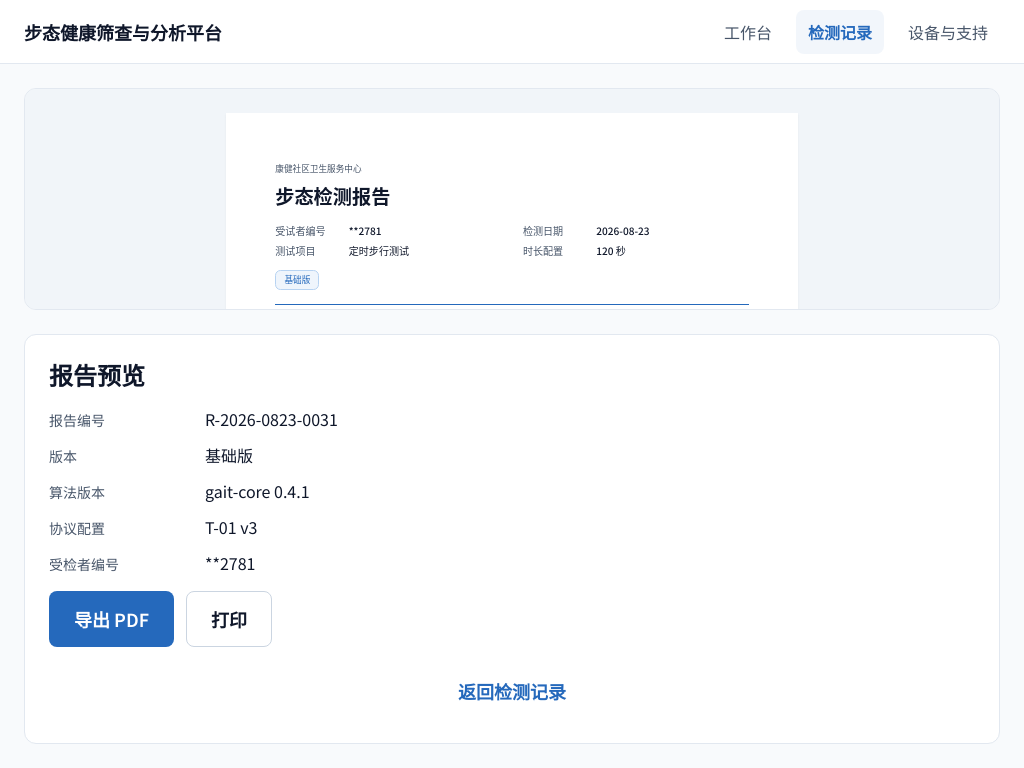
Test: with the shell bridge › says the export failed, with the reason
This screenshot has width=1024, height=768.
Click the button "导出 PDF" at (112, 619), box [49,591,174,647]
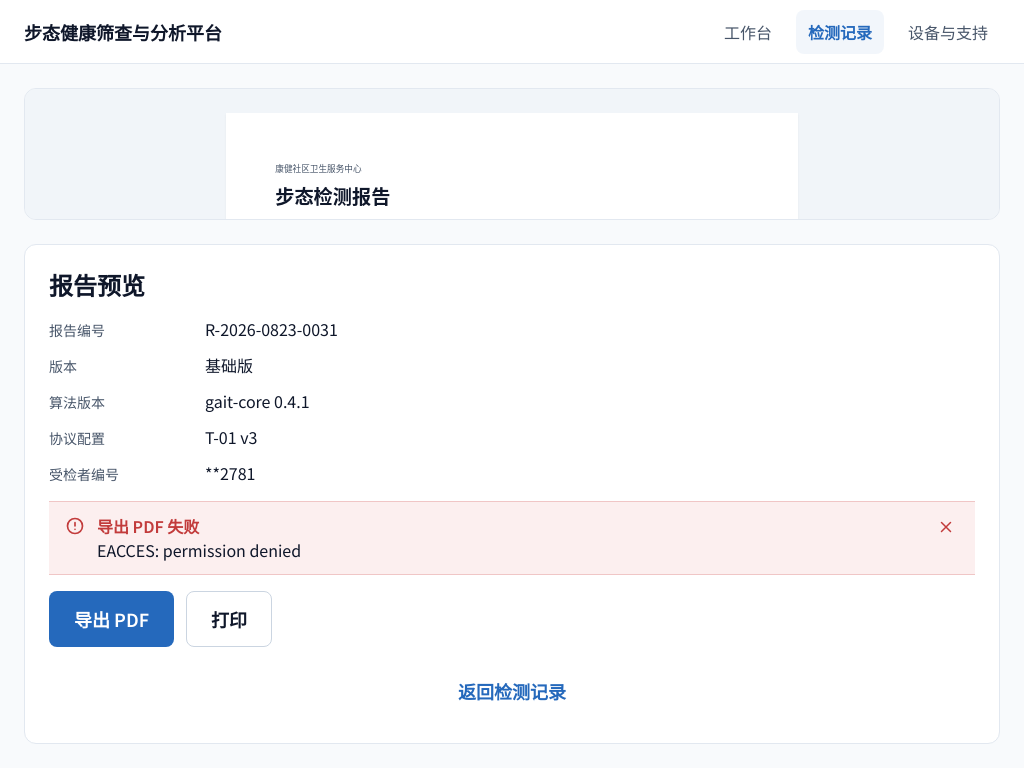
Check: the text "导出 PDF 失败" is shown, box [97,514,199,538]
Check: the text "EACCES: permission denied" is shown, box [97,538,301,562]
